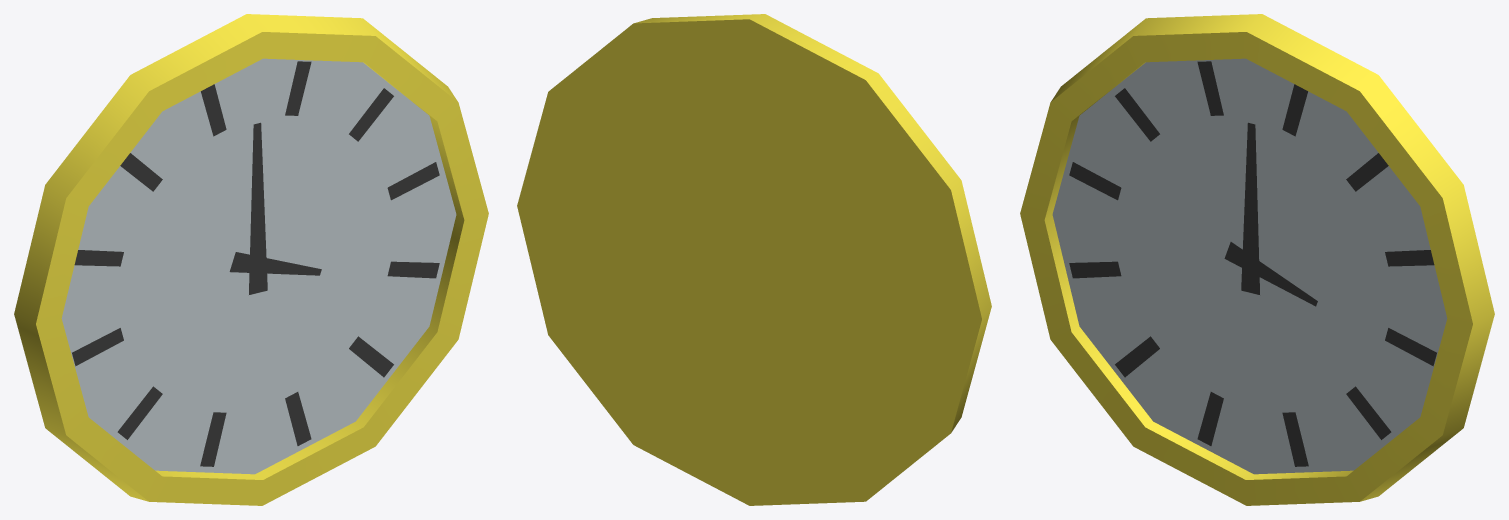
File: prop_083.glb
3 renders of one model, left to right at view 1: azimuth 30°, elevation 25°; view 2: azimuth 150°, elevation 25°; view 3: azimuth 330°, elevation 25°, orthographic.
Parts seen in each view (by area): view 1: prop_083; view 2: prop_083; view 3: prop_083.
Boxes of the visible parts, box(x1,y1,x2,y2) form: prop_083: box(14, 14, 488, 505); prop_083: box(517, 14, 991, 505); prop_083: box(1020, 14, 1494, 505).
Size of the model in its own units: 0.4493 by 0.4493 by 0.0275.
Materials: 1 (1 with a texture image).
